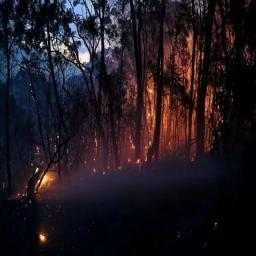Small fire: (0, 0, 245, 196)
